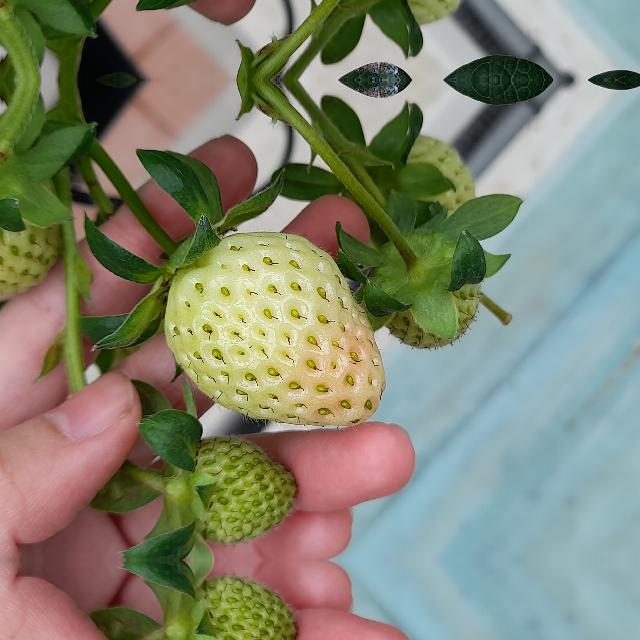Health_50: (164, 231, 386, 425)
